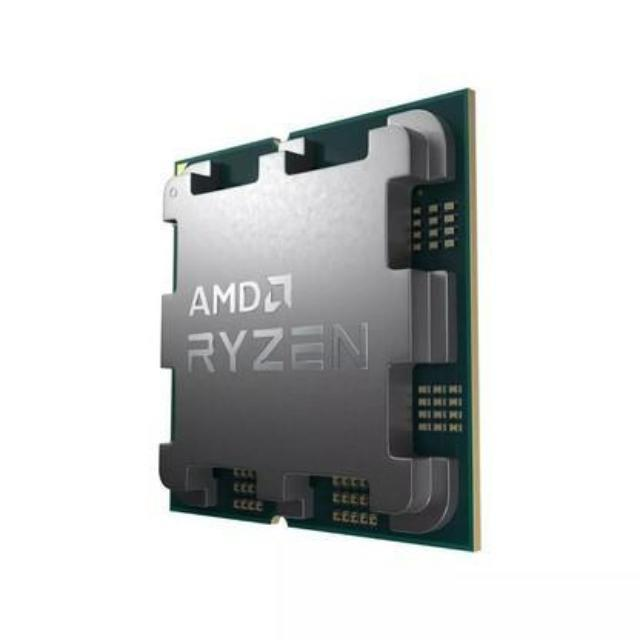CPU: (144, 93, 482, 559)
